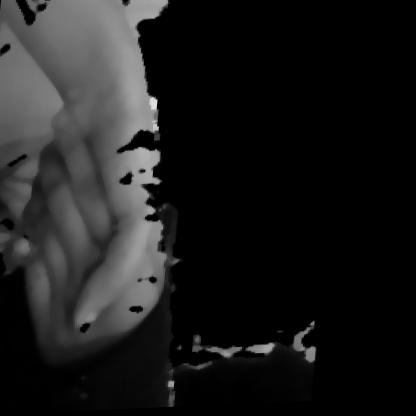handshake: (0, 0, 217, 414)
